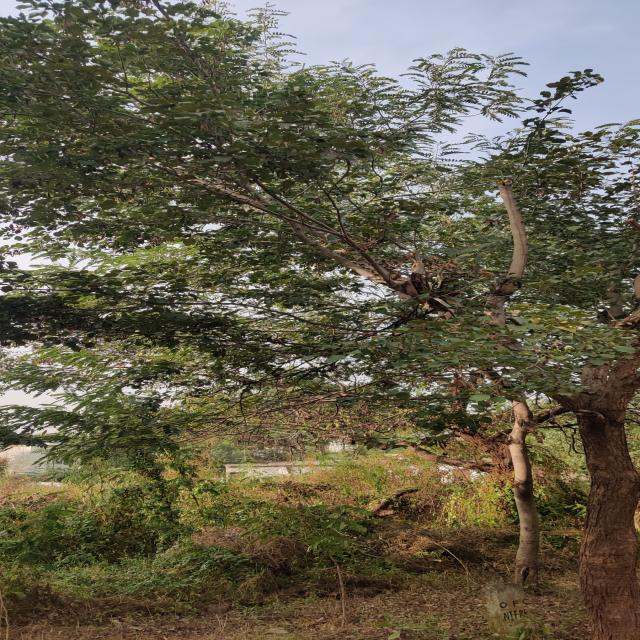Devakanchan tree: (43, 3, 630, 611)
